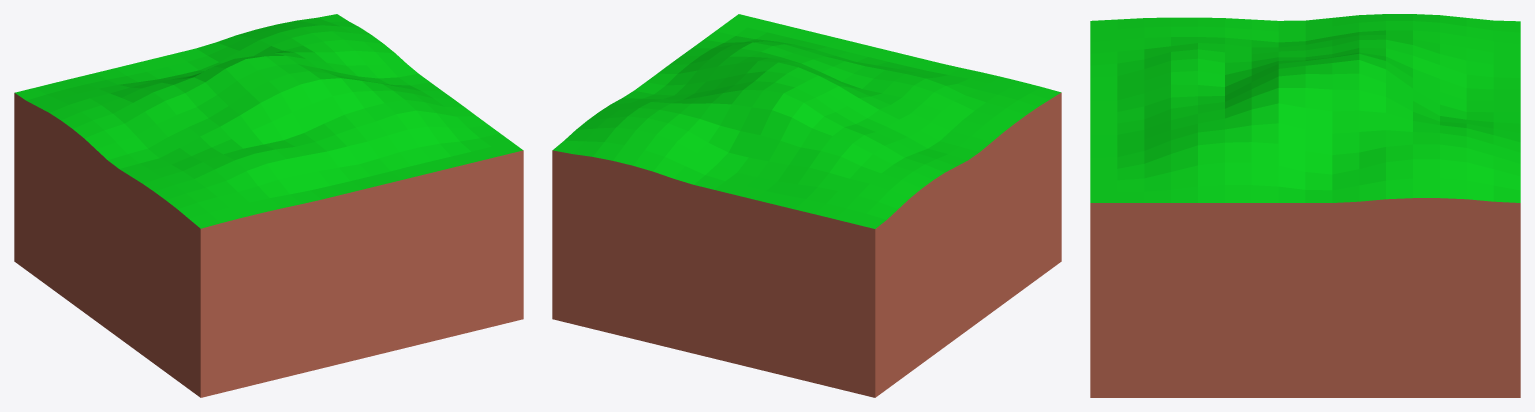
The model's file is grassblock3.fbx.
3 renders of one model, left to right at view 1: azimuth 30°, elevation 25°; view 2: azimuth 150°, elevation 25°; view 3: azimuth 270°, elevation 25°, orthographic. The views are drawn at different scales.
Visible parts, largest first — view 1: Cube; view 2: Cube; view 3: Cube.
Part boxes in pixels (x1,y1,x2,y2): Cube: (14, 14, 523, 397); Cube: (552, 14, 1061, 397); Cube: (1090, 14, 1520, 397).
Size of the model in its own units: 100 by 63.43 by 100.
